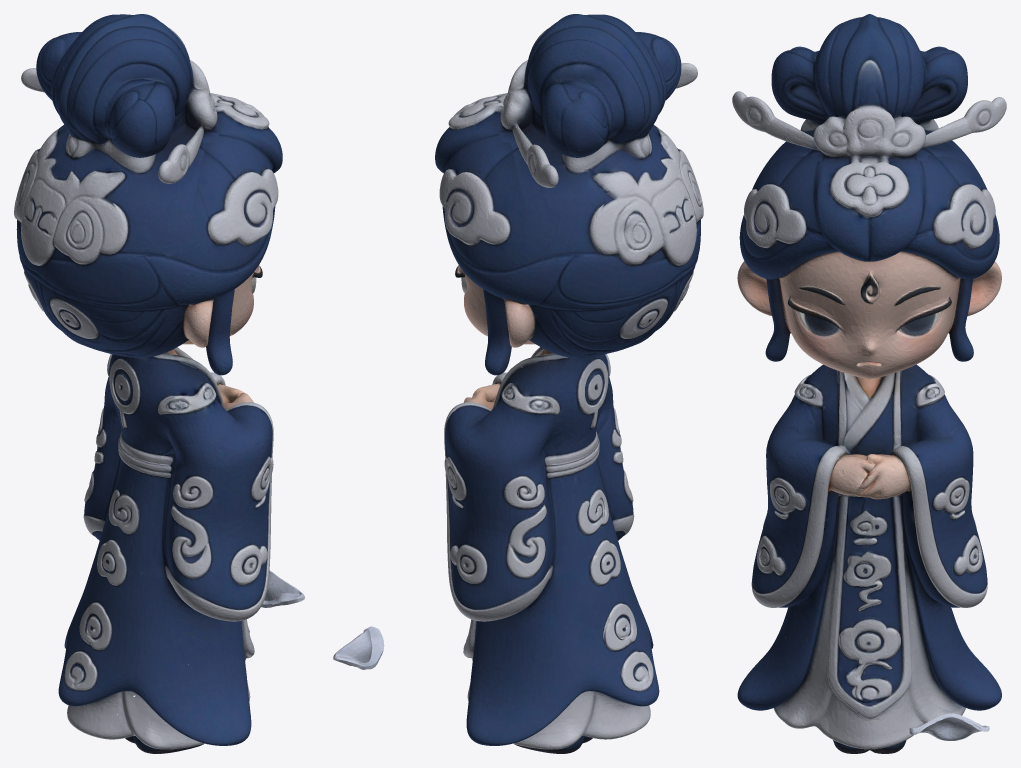
3 views of the same model, side by side, from view 1: azimuth 30°, elevation 25°; view 2: azimuth 150°, elevation 25°; view 3: azimuth 270°, elevation 25° (orthographic). The views are drawn at different scales.
Visible parts, largest first — view 1: tripo_node_089a3e07-fdb4-49de-b1c2-3df24ec436d5; view 2: tripo_node_089a3e07-fdb4-49de-b1c2-3df24ec436d5; view 3: tripo_node_089a3e07-fdb4-49de-b1c2-3df24ec436d5.
Boxes of the visible parts, box(x1,y1,x2,y2) form: tripo_node_089a3e07-fdb4-49de-b1c2-3df24ec436d5: box(14, 14, 304, 753); tripo_node_089a3e07-fdb4-49de-b1c2-3df24ec436d5: box(333, 14, 703, 753); tripo_node_089a3e07-fdb4-49de-b1c2-3df24ec436d5: box(732, 14, 1006, 753).
Bounding box in the file's own units: 0.4274 × 0.9999 × 0.3549.
Materials: 1 (1 with a texture image).
